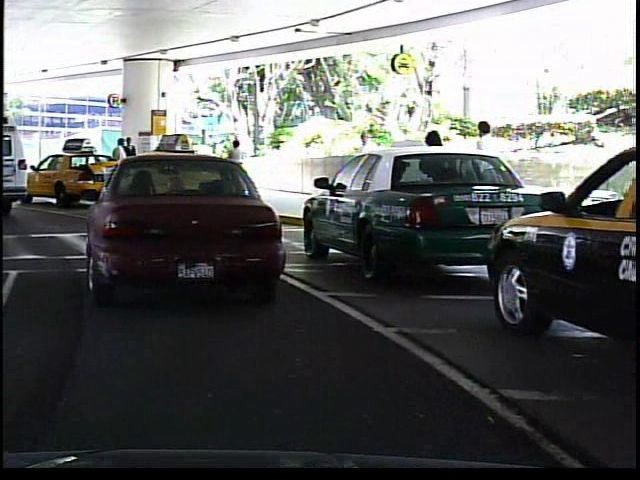person: (464, 113, 511, 230), (413, 121, 455, 227), (349, 122, 380, 203), (224, 136, 247, 191), (108, 136, 128, 191), (123, 133, 139, 190)
